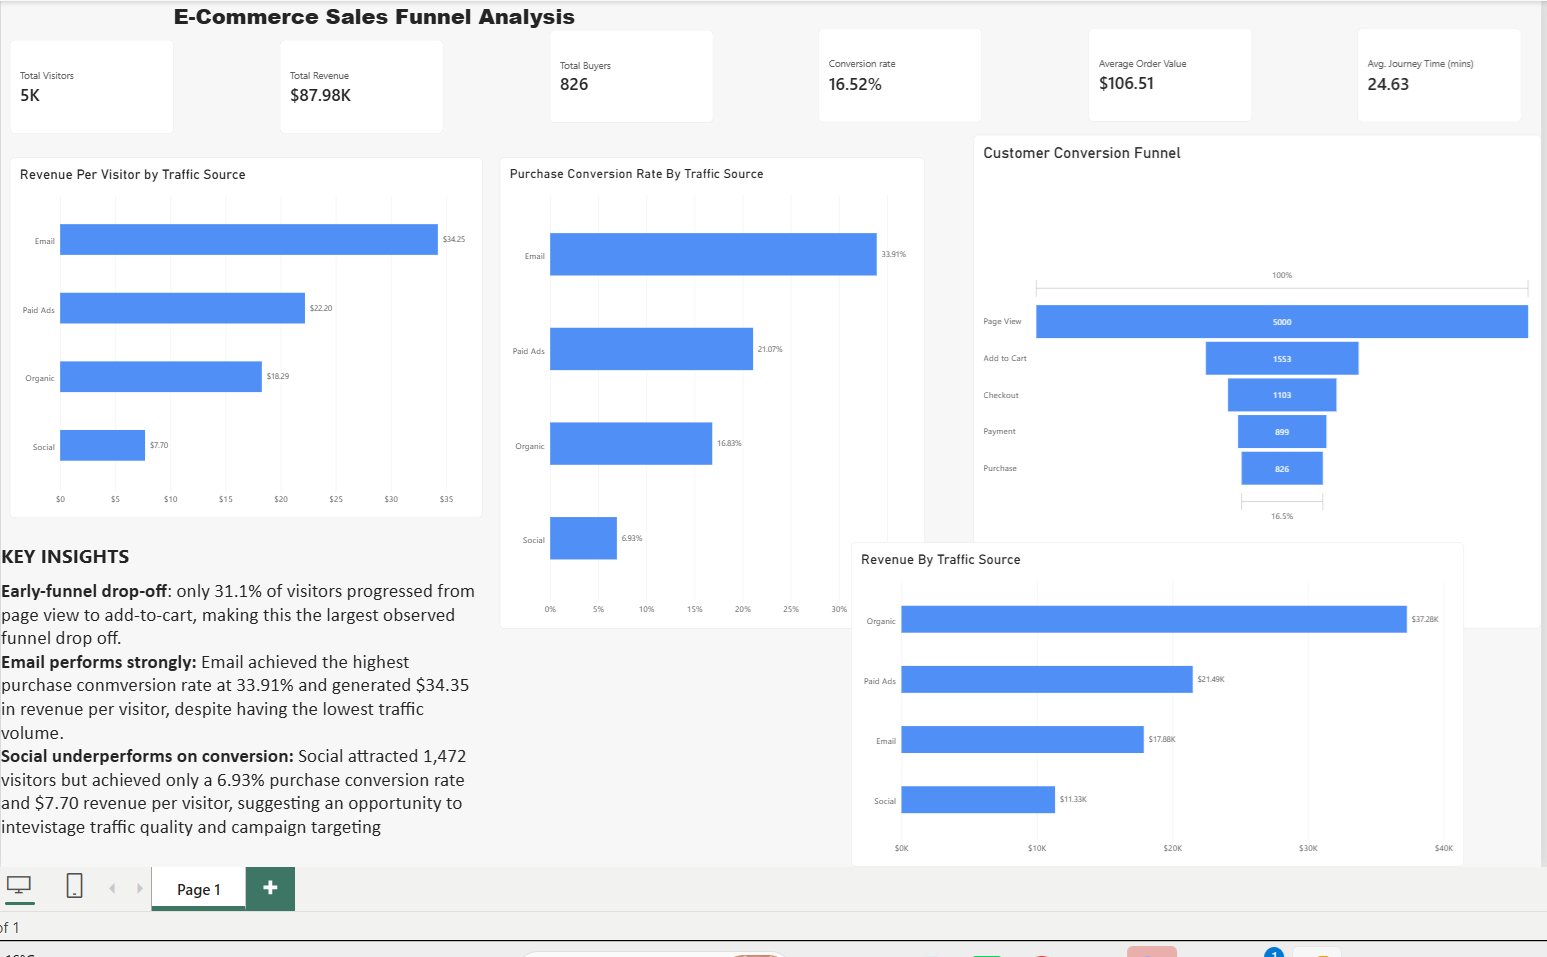

The dashboard page shown, as its layout file describes it:
{"tool":"powerbi","page":{"name":"Page 1","canvas":[2560,1440],"ordinal":0},"visuals":[{"type":"cardVisual","fields":{"Data":["Sum(revenue-funnel-analysis - Sheet1.total_visitors)"]},"box":[14,64.5,273.8,157],"z":0},{"type":"cardVisual","fields":{"Data":["Sum(revenue-funnel-analysis - Sheet1.total_buyers)"]},"box":[911.7,48.8,272.1,155.2],"z":1000},{"type":"cardVisual","fields":{"Data":["Sum(revenue-funnel-analysis - Sheet1.total_revenue)"]},"box":[463.7,65.1,272.1,157],"z":2000},{"type":"cardVisual","fields":{"Data":["Sum(revenue-funnel-analysis - Sheet1.avg_order_value)"]},"box":[1807.8,46.5,272.1,155.2],"z":3000},{"type":"cardVisual","fields":{"Data":["revenue-funnel-analysis - Sheet1.Conversion rate"]},"box":[1359.8,46.5,272.1,157],"z":4000},{"type":"textbox","title":"E-Commerce Sales Funnel Analysis","box":[286,0,896.5,64.5],"z":5000},{"type":"funnel","title":"Customer Conversion Funnel","fields":{"Category":["sales funnel and the different stages - Sheet1.Funnel Stage"],"Y":["Sum(sales funnel and the different stages - Sheet1.Users)"]},"box":[1616.3,223.3,944.2,820.9],"z":6000},{"type":"clusteredBarChart","title":"Purchase Conversion Rate By Traffic Source","fields":{"Category":["revenue-by-traffic-source - Sheet1.traffic_source"],"Y":["revenue-by-traffic-source - Sheet1.Purchase Conversion Rate %"]},"box":[830.2,260.5,707,783.7],"z":7000},{"type":"clusteredBarChart","title":"Revenue By Traffic Source","fields":{"Category":["revenue-by-traffic-source - Sheet1.traffic_source"],"Y":["Sum(revenue-by-traffic-source - Sheet1.revenue)"]},"box":[1414,900,1018.6,539.5],"z":8000},{"type":"clusteredBarChart","title":"Revenue Per Visitor by Traffic Source","fields":{"Category":["revenue-by-traffic-source - Sheet1.traffic_source"],"Y":["Sum(revenue-by-traffic-source - Sheet1.revenue_per_visitor)"]},"box":[14,260.5,786,600],"z":9000},{"type":"cardVisual","fields":{"Data":["Sum(time to conversion analysis - Sheet1.avg_total_journey)"]},"box":[2255.8,46.5,273.8,157],"z":10000},{"type":"textbox","box":[0,900,800,539.5],"z":10001}]}

Visuals, with their boxes on the page's 2560x1440 design canvas (x1, y1, x2, y2). These are canvas units, not pixel positions in the 1547x957 screenshot, which may show the page scaled, cropped or inside an application window:
cardVisual - Sum(revenue-funnel-analysis - Sheet1.total_visitors): detection(14, 64, 288, 222)
cardVisual - Sum(revenue-funnel-analysis - Sheet1.total_buyers): detection(912, 49, 1184, 204)
cardVisual - Sum(revenue-funnel-analysis - Sheet1.total_revenue): detection(464, 65, 736, 222)
cardVisual - Sum(revenue-funnel-analysis - Sheet1.avg_order_value): detection(1808, 46, 2080, 202)
cardVisual - revenue-funnel-analysis - Sheet1.Conversion rate: detection(1360, 46, 1632, 204)
"E-Commerce Sales Funnel Analysis" textbox: detection(286, 0, 1182, 64)
"Customer Conversion Funnel" funnel: detection(1616, 223, 2560, 1044)
"Purchase Conversion Rate By Traffic Source" clusteredBarChart: detection(830, 260, 1537, 1044)
"Revenue By Traffic Source" clusteredBarChart: detection(1414, 900, 2433, 1440)
"Revenue Per Visitor by Traffic Source" clusteredBarChart: detection(14, 260, 800, 860)
cardVisual - Sum(time to conversion analysis - Sheet1.avg_total_journey): detection(2256, 46, 2530, 204)
textbox: detection(0, 900, 800, 1440)
